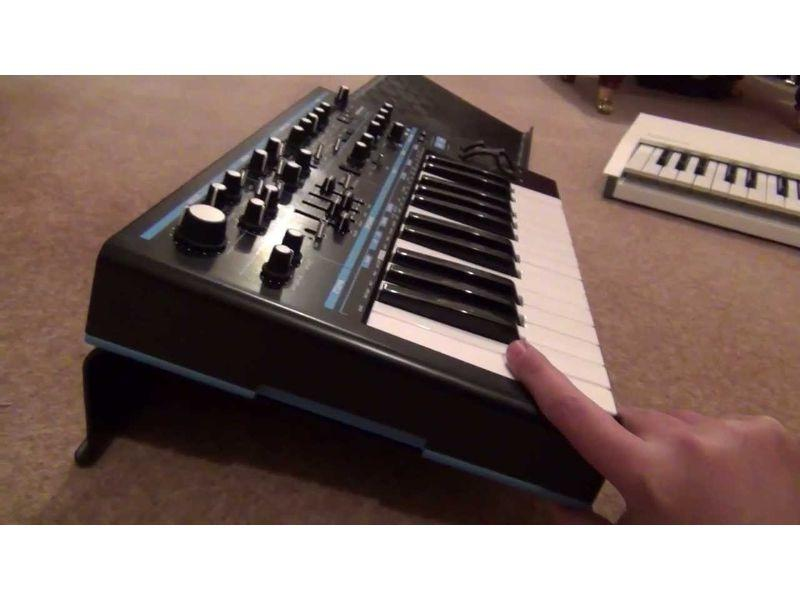synthesizer: (74, 101, 636, 499)
